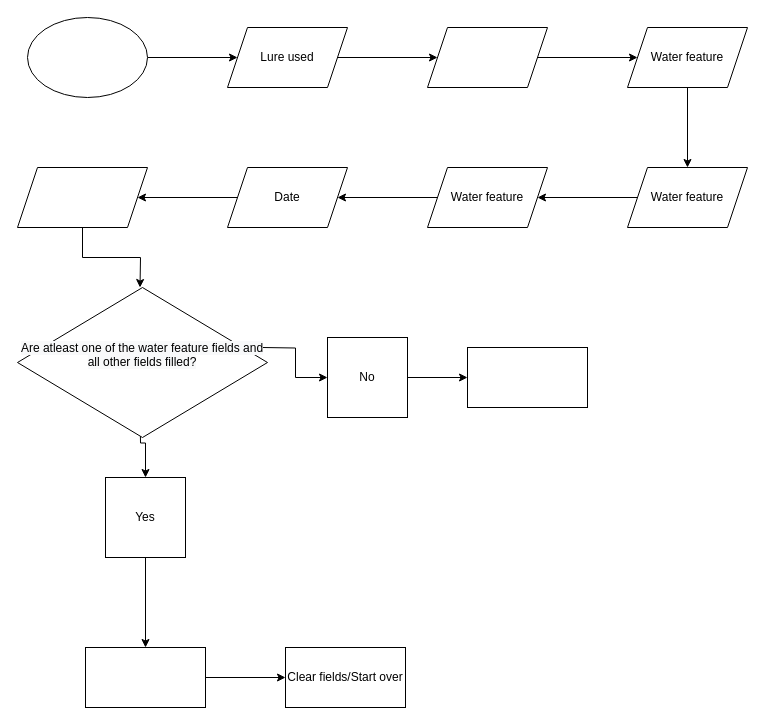
Some shapes in this 765 by 725 pixel diagram are drawn without their labels. Here are the shapes that lost their labels. From the top down, the box of each, then its label:
(26, 16, 148, 98): Success tab
(426, 26, 548, 88): Body of water
(16, 166, 148, 228): Type of fish caught
(466, 346, 588, 408): Highlight field that need to be filled
(84, 646, 206, 708): Add to Database
